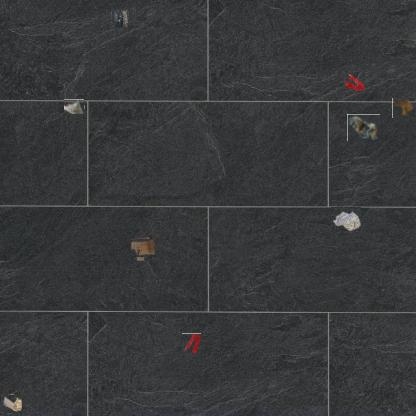dirty: (347, 114, 380, 141), (331, 207, 361, 232), (132, 237, 154, 259), (392, 98, 415, 118), (1, 394, 21, 414), (110, 10, 130, 28), (64, 99, 84, 114)
liquid: (344, 71, 365, 91), (181, 333, 201, 354)
